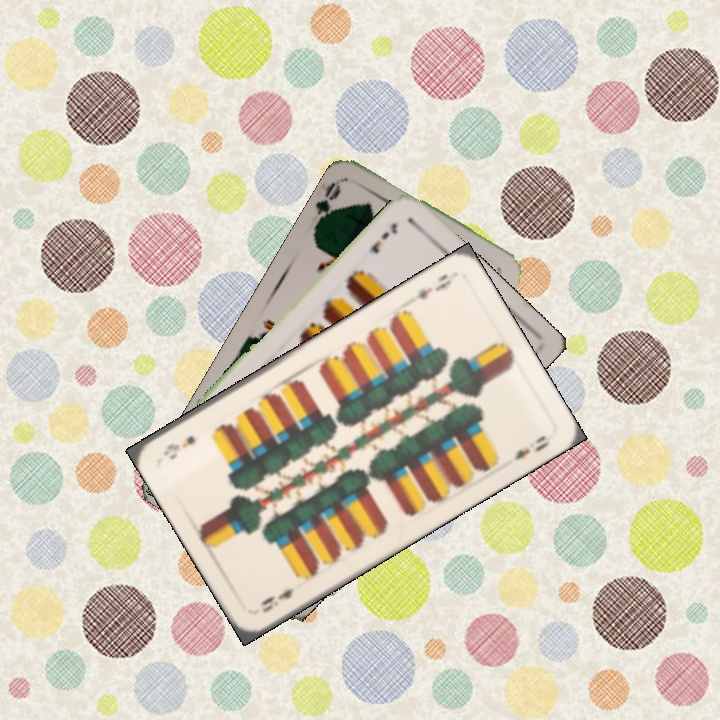E7: (366, 218, 400, 256)
E9: (413, 270, 455, 303), (256, 583, 297, 616)
GO: (309, 177, 344, 233)
